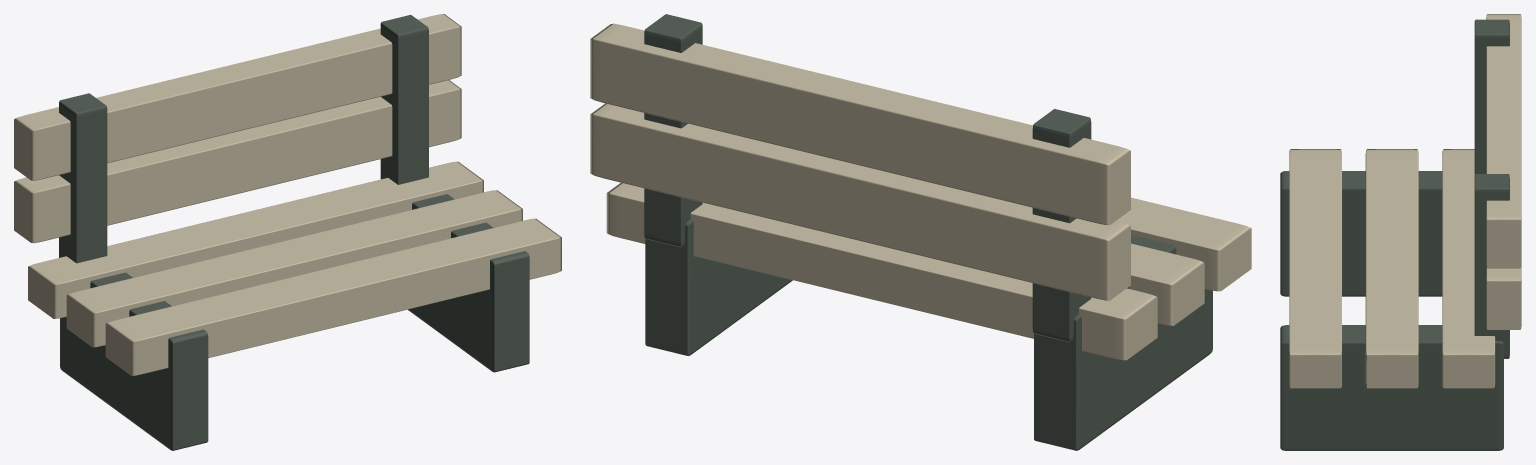
Rendered from bench-3.glb.
3 views of the same model, side by side, from view 1: azimuth 30°, elevation 25°; view 2: azimuth 150°, elevation 25°; view 3: azimuth 270°, elevation 25° (orthographic). The views are drawn at different scales.
Visible parts, largest first — view 1: bench-3-0; view 2: bench-3-0; view 3: bench-3-0.
Part boxes in pixels (x1,y1,x2,y2): bench-3-0: (14,14,561,450); bench-3-0: (590,14,1251,450); bench-3-0: (1280,14,1521,450).
Bounding box in the file's own units: 0.83 × 0.4905 × 0.41.
